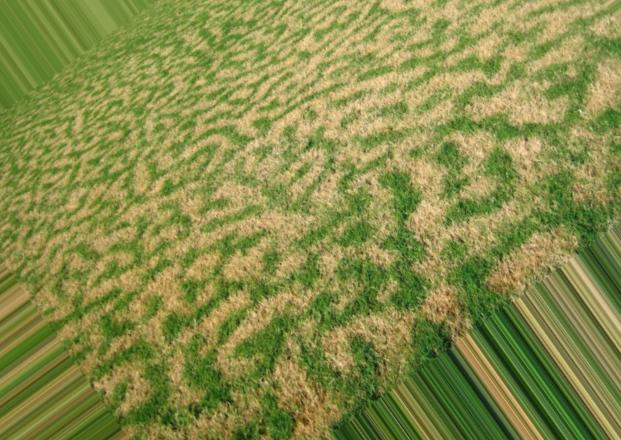patch: (418, 165, 448, 195), (174, 239, 210, 259), (157, 282, 181, 309), (315, 252, 354, 268), (272, 219, 298, 242), (350, 148, 376, 164), (187, 416, 210, 434), (511, 260, 531, 278), (225, 413, 249, 428), (151, 427, 178, 440), (283, 372, 303, 389), (230, 260, 254, 273), (224, 355, 245, 369), (385, 318, 396, 341), (422, 215, 437, 228), (365, 181, 380, 193), (425, 259, 440, 269)
